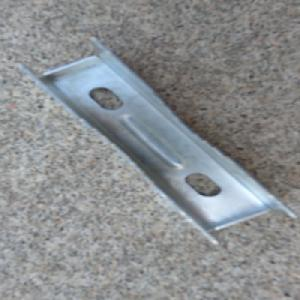ClampPart: (13, 34, 300, 247)
